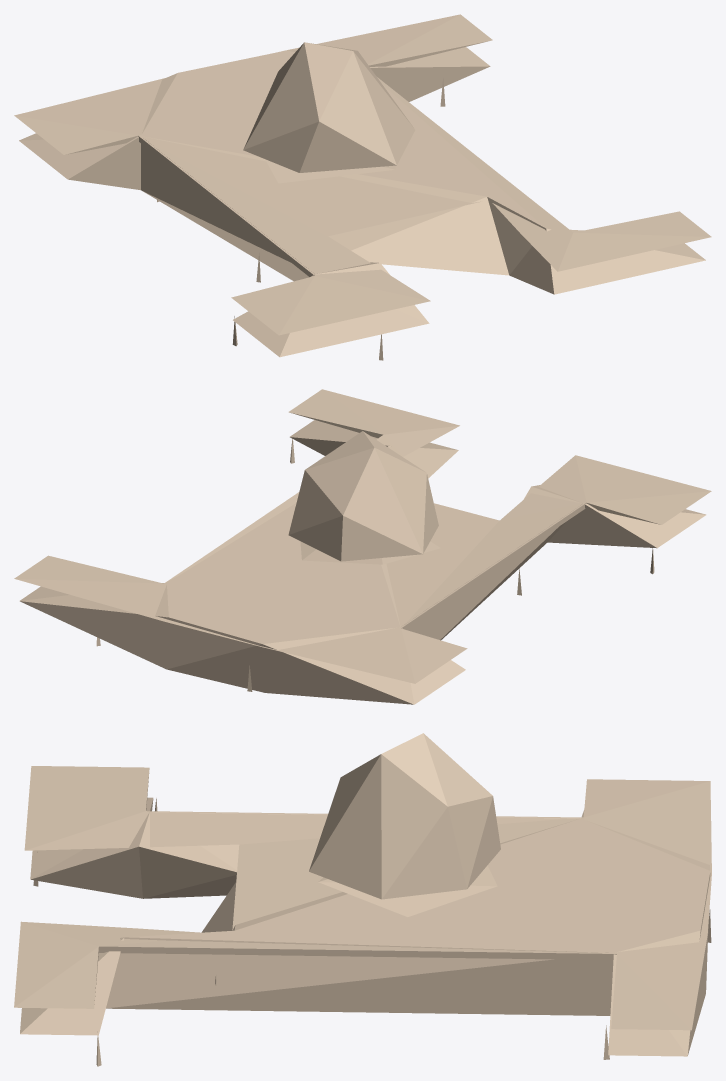
The model's file is rashtrapati-bhavan_lod2.glb.
The picture shows the model from 3 angles, top to bottom: view 1: azimuth 30°, elevation 25°; view 2: azimuth 150°, elevation 25°; view 3: azimuth 270°, elevation 25°; orthographic projection. The views are drawn at different scales.
Parts seen in each view (by area): view 1: rashtrapati-bhavan; view 2: rashtrapati-bhavan; view 3: rashtrapati-bhavan.
Part boxes in pixels (<box>): rashtrapati-bhavan: <box>14,14,711,360</box>; rashtrapati-bhavan: <box>14,389,711,704</box>; rashtrapati-bhavan: <box>14,733,711,1066</box>.
Size of the model in its own units: 180 by 64.3 by 201.
